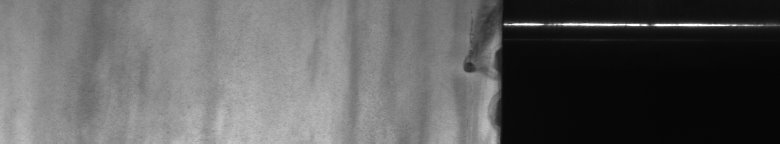hb: (457, 6, 488, 80)
